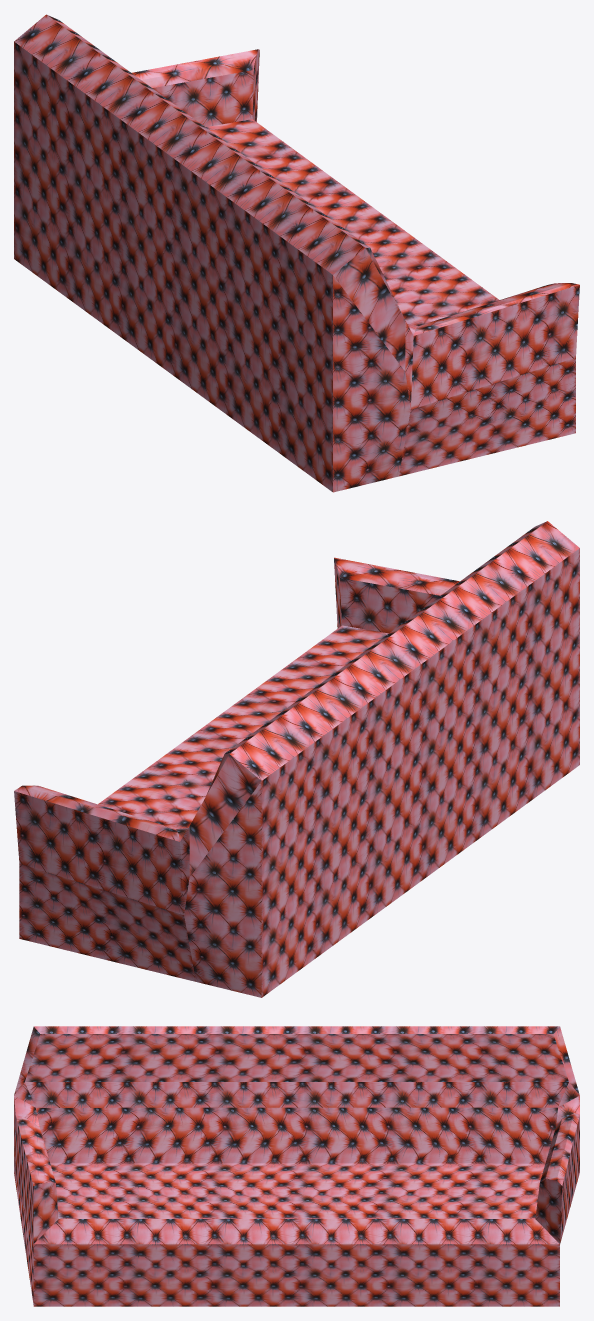
The model's file is Couch.obj.
3 renders of one model, top to bottom at view 1: azimuth 30°, elevation 25°; view 2: azimuth 150°, elevation 25°; view 3: azimuth 270°, elevation 25°, orthographic. The views are drawn at different scales.
Parts seen in each view (by area): view 1: Couch; view 2: Couch; view 3: Couch.
Boxes of the visible parts, bbox=[...] form: Couch: bbox=[14, 14, 579, 492]; Couch: bbox=[14, 521, 579, 997]; Couch: bbox=[14, 1026, 579, 1306].
Size of the model in its own units: 3.09 by 2.83 by 7.44.
Materials: 1 (1 with a texture image).
